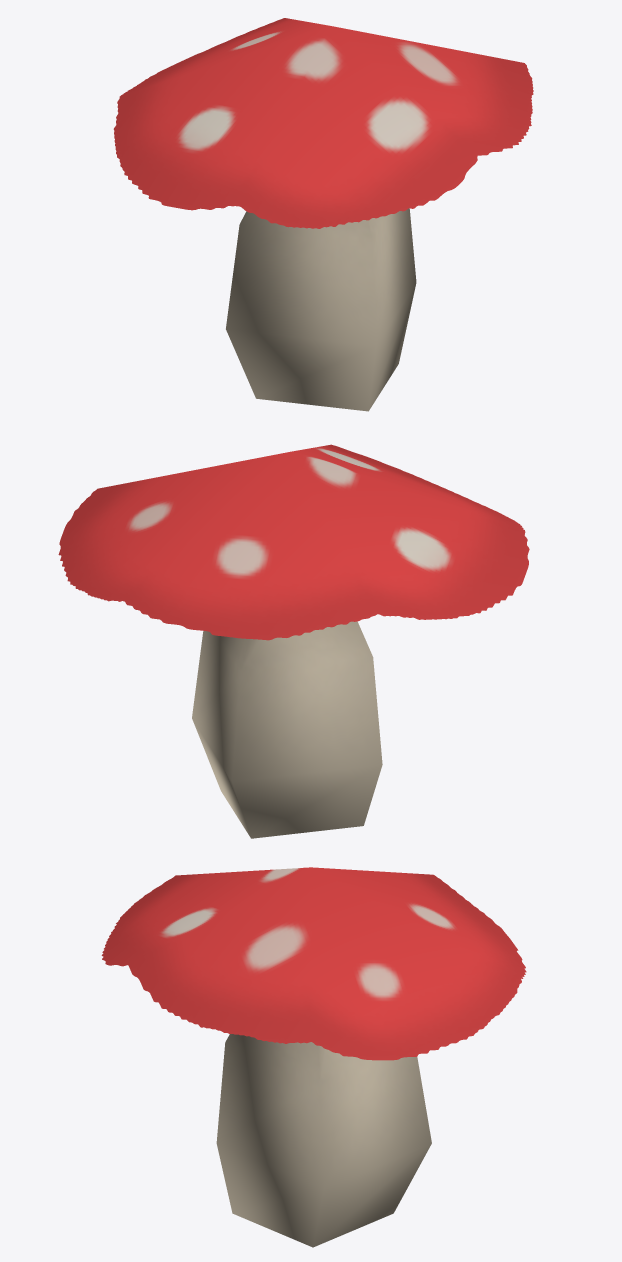
The model's file is Mushroom03.fbx.
3 renders of one model, top to bottom at view 1: azimuth 30°, elevation 25°; view 2: azimuth 150°, elevation 25°; view 3: azimuth 270°, elevation 25°, orthographic. The views are drawn at different scales.
Visible parts, largest first — view 1: polySurface4; view 2: polySurface4; view 3: polySurface4.
Boxes of the visible parts, x1,y1,x2,y2 form: polySurface4: (113,18,533,411); polySurface4: (58,444,529,838); polySurface4: (101,867,526,1247).
Size of the model in its own units: 0.4508 by 0.3061 by 0.474.
